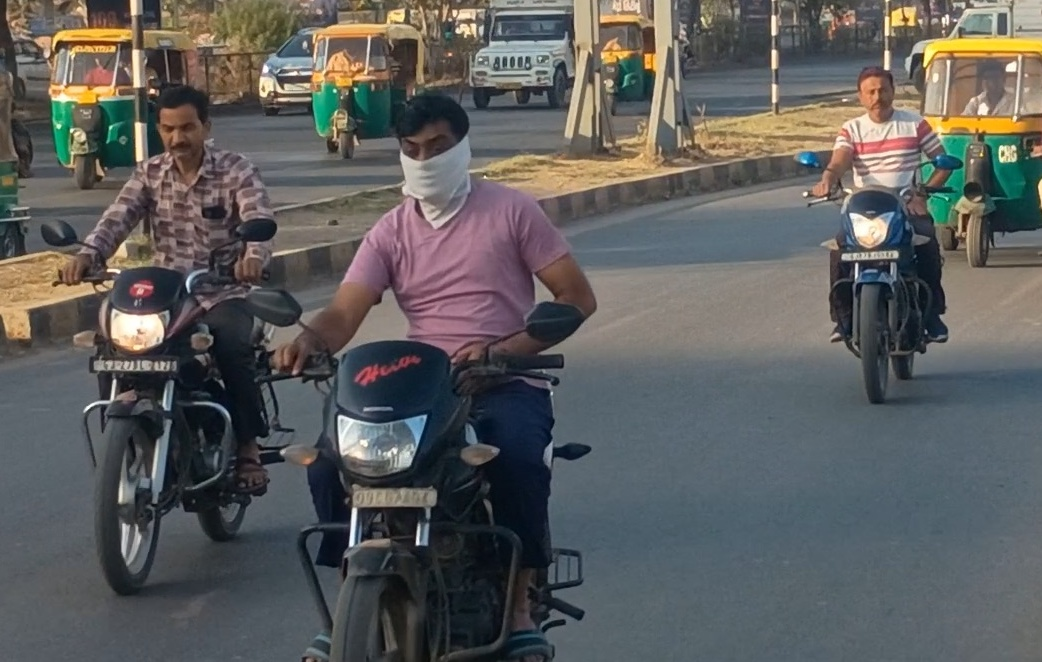BikeWithRider: (235, 81, 608, 662), (34, 74, 299, 606), (789, 59, 970, 411)
NoHelmet: (382, 87, 485, 217), (147, 80, 222, 168), (846, 60, 906, 125)
